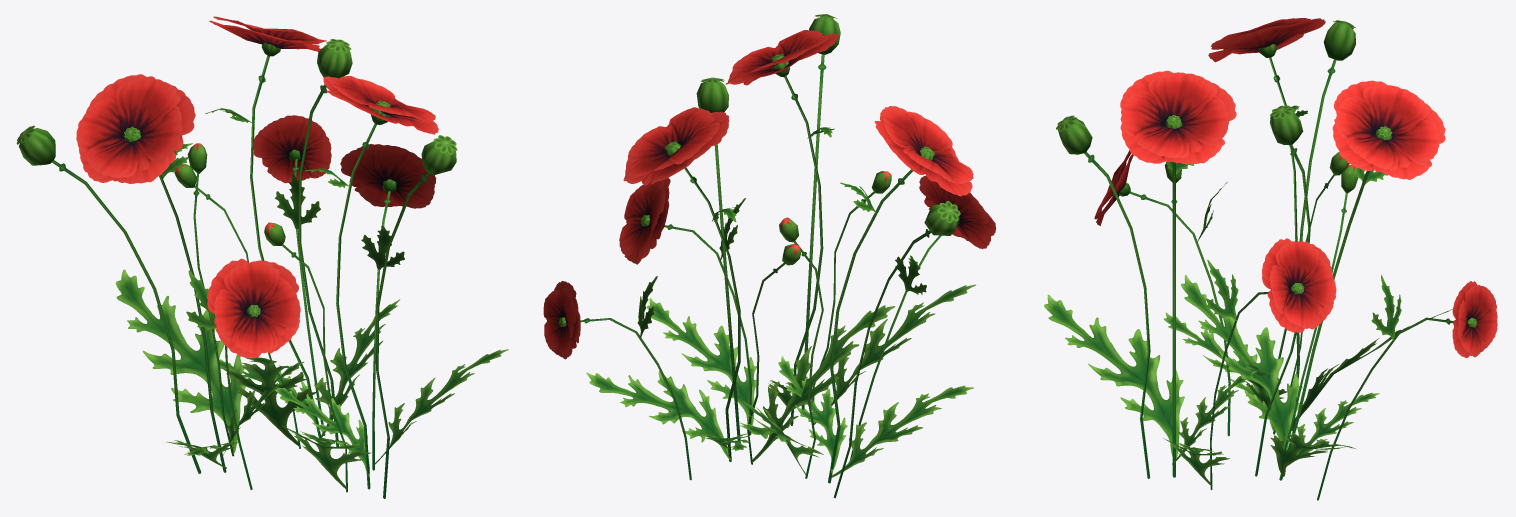
File: Puppy.fbx
The picture shows the model from 3 angles, left to right: view 1: azimuth 30°, elevation 25°; view 2: azimuth 150°, elevation 25°; view 3: azimuth 270°, elevation 25°; orthographic projection. The views are drawn at different scales.
Parts seen in each view (by area): view 1: Poppy_stam_low.001; view 2: Poppy_stam_low.001; view 3: Poppy_stam_low.001.
Part boxes in pixels (box(x1,y1,x2,y2)): Poppy_stam_low.001: box(16, 16, 508, 498); Poppy_stam_low.001: box(543, 14, 996, 498); Poppy_stam_low.001: box(1044, 18, 1497, 500).
Size of the model in its own units: 179 by 176 by 185.
